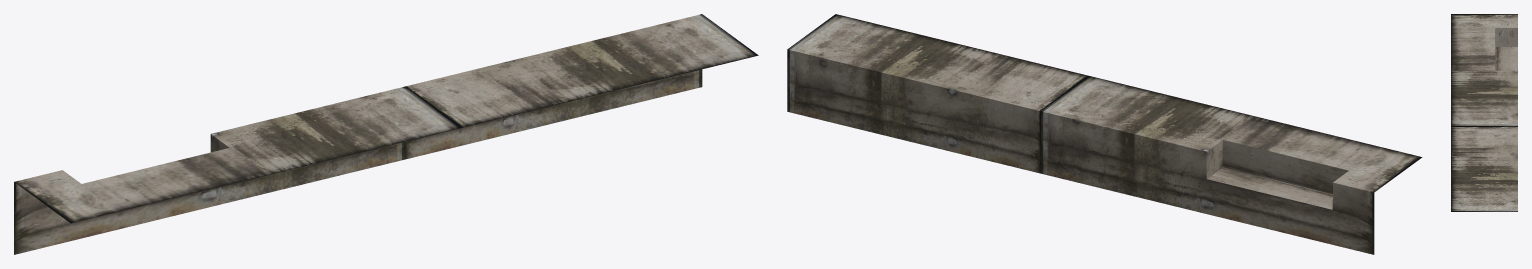
File: Trottoir_09.fbx
3 views of the same model, side by side, from view 1: azimuth 30°, elevation 25°; view 2: azimuth 150°, elevation 25°; view 3: azimuth 270°, elevation 25° (orthographic). The views are drawn at different scales.
Parts seen in each view (by area): view 1: Trottoir_09; view 2: Trottoir_09; view 3: Trottoir_09.
Part boxes in pixels (x1,y1,x2,y2): Trottoir_09: (14, 14, 758, 254); Trottoir_09: (787, 14, 1422, 254); Trottoir_09: (1451, 14, 1517, 211).
Size of the model in its own units: 700 by 71.06 by 100.
